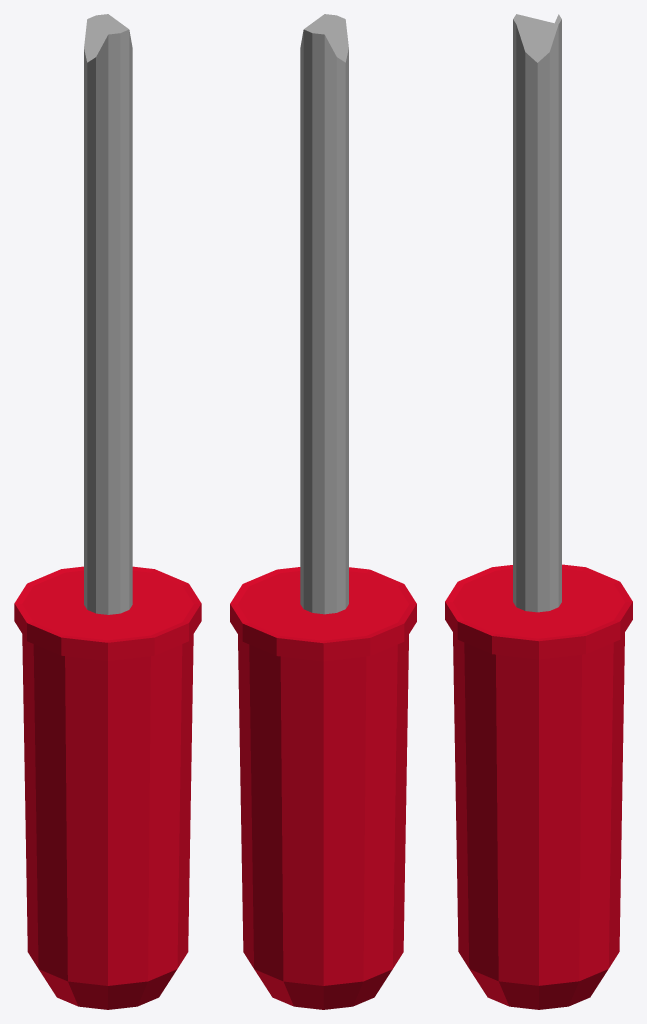
Rendered from Destornillador_Rojo.fbx.
3 renders of one model, left to right at view 1: azimuth 30°, elevation 25°; view 2: azimuth 150°, elevation 25°; view 3: azimuth 270°, elevation 25°, orthographic.
Visible parts, largest first — view 1: Mango.002, Vastago.001; view 2: Mango.002, Vastago.001; view 3: Mango.002, Vastago.001.
Part boxes in pixels (x1=…): Mango.002: x1=14, y1=566, x2=201, y2=1009; Vastago.001: x1=84, y1=14, x2=132, y2=614; Mango.002: x1=230, y1=567, x2=416, y2=1009; Vastago.001: x1=300, y1=14, x2=348, y2=614; Mango.002: x1=445, y1=564, x2=632, y2=1009; Vastago.001: x1=513, y1=14, x2=561, y2=612.
Bounding box in the file's own units: 143 × 810 × 143.
